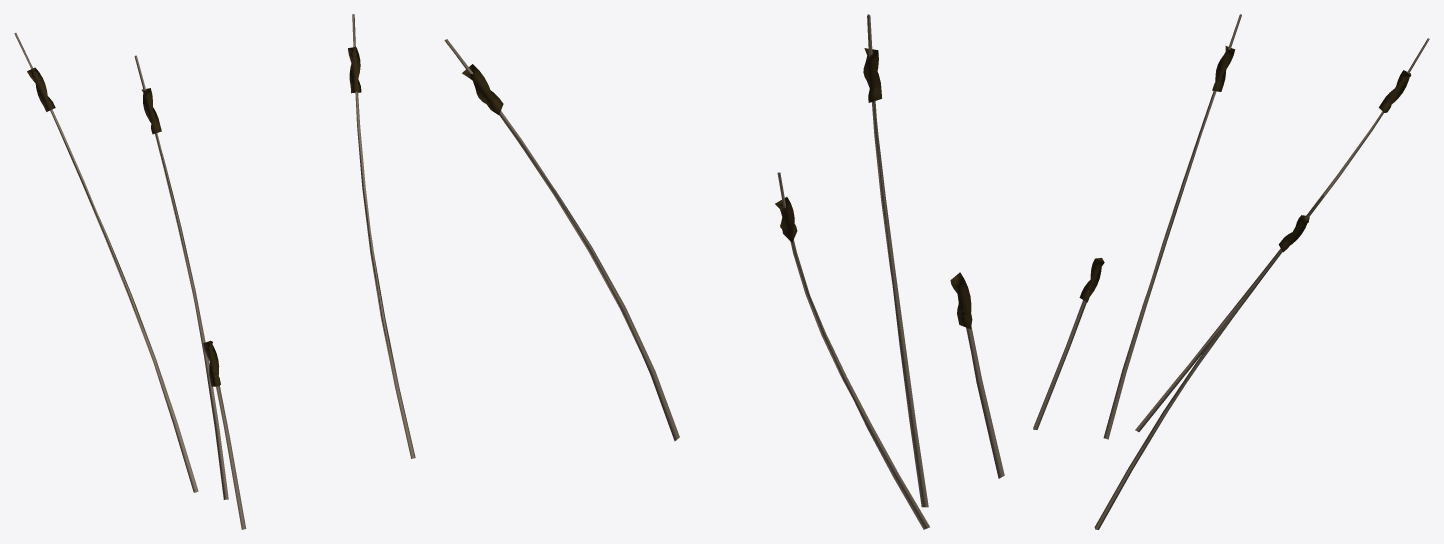
Rendered from cattail2.fbx.
3 renders of one model, left to right at view 1: azimuth 30°, elevation 25°; view 2: azimuth 150°, elevation 25°; view 3: azimuth 270°, elevation 25°, orthographic. The views are drawn at different scales.
Parts seen in each view (by area): view 1: cattail2Main, cattail2Flower; view 2: cattail2Main, cattail2Flower; view 3: cattail2Main, cattail2Flower.
Boxes of the visible parts, <box> form: cattail2Main: <box>14,14,415,529</box>; cattail2Flower: <box>27,47,361,386</box>; cattail2Main: <box>444,14,1004,529</box>; cattail2Flower: <box>462,48,972,329</box>; cattail2Main: <box>1033,14,1429,529</box>; cattail2Flower: <box>1079,46,1411,302</box>.
Bounding box in the file's own units: 2.74 × 3.65 × 3.18.
